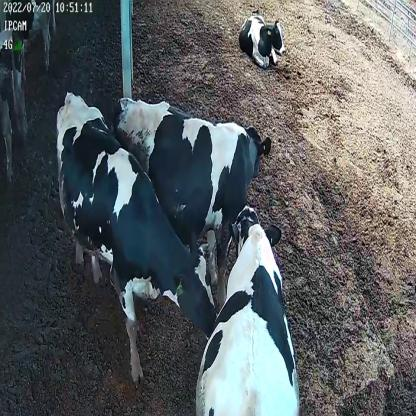cow: (52, 88, 220, 390), (116, 93, 273, 314), (195, 203, 301, 416), (238, 13, 286, 69)
